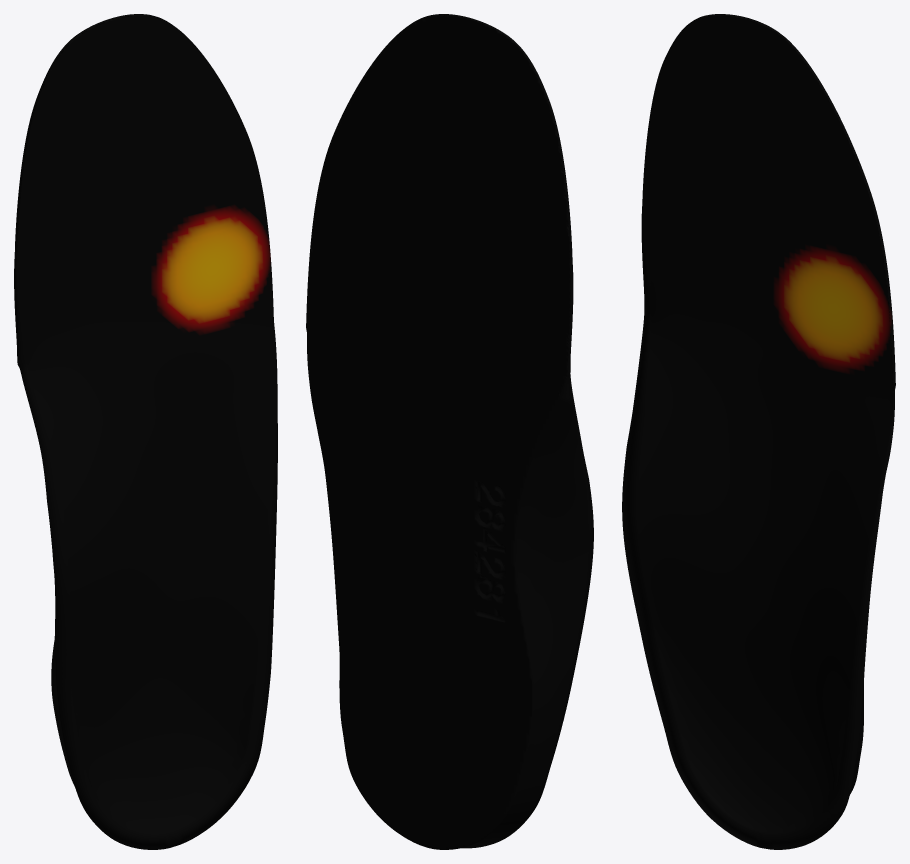
File: PAIR-OFFLOAD-4TH_RIGHT.glb
3 views of the same model, side by side, from view 1: azimuth 30°, elevation 25°; view 2: azimuth 150°, elevation 25°; view 3: azimuth 330°, elevation 25° (orthographic). The views are drawn at different scales.
Visible parts, largest first — view 1: world; view 2: world; view 3: world.
Part boxes in pixels (left/top/right/bottom): world: left=14, top=14, right=277, bottom=849; world: left=306, top=14, right=593, bottom=849; world: left=622, top=14, right=895, bottom=849.
Bounding box in the file's own units: 92.57 × 283 × 19.31.
